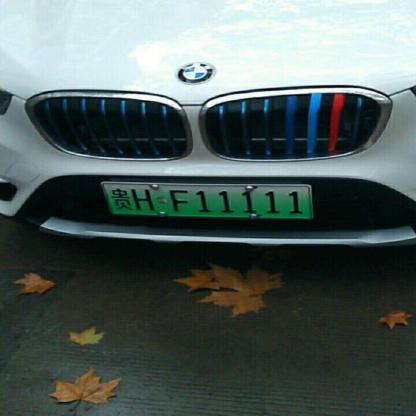lp: (103, 183, 311, 216)
